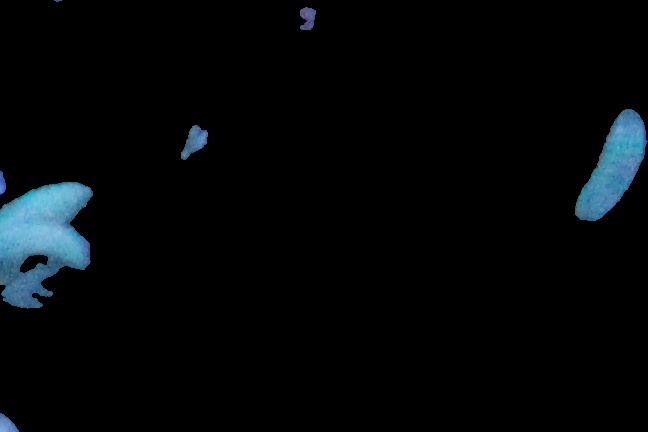larvae: (1, 181, 95, 294), (578, 102, 648, 223), (1, 226, 102, 285)
